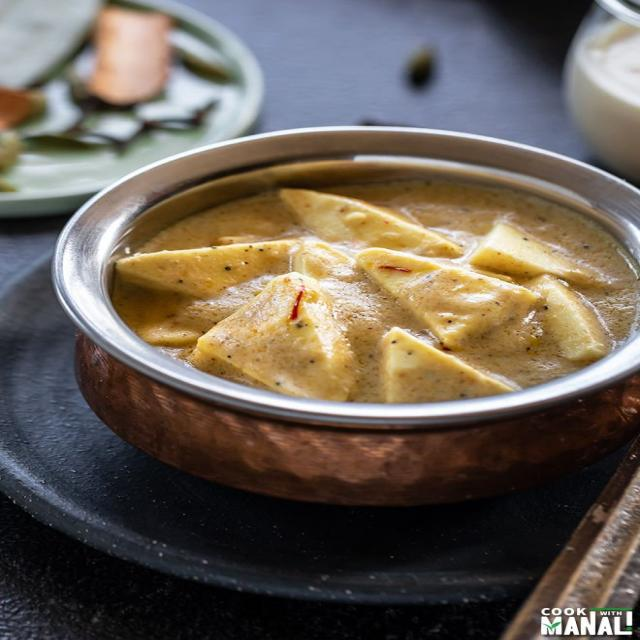Paneer_tikka: (116, 145, 639, 400)
